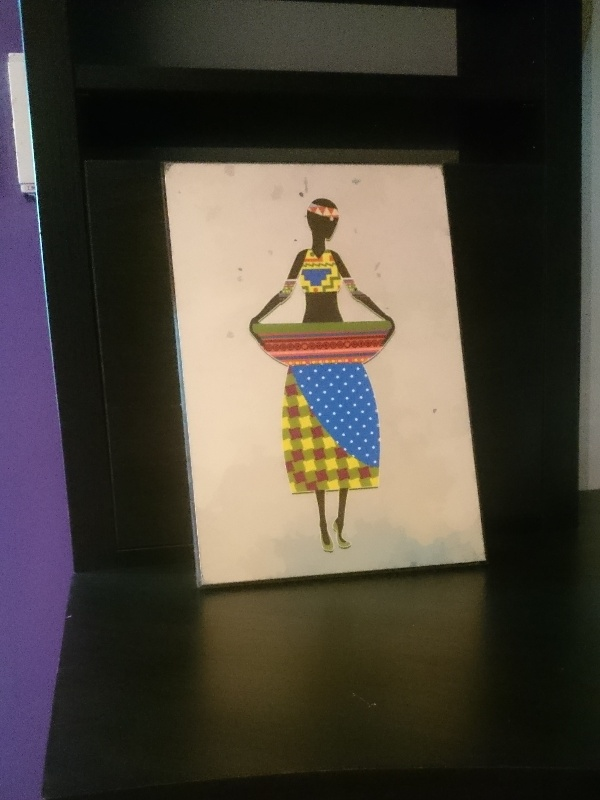my image: (167, 167, 477, 584)
